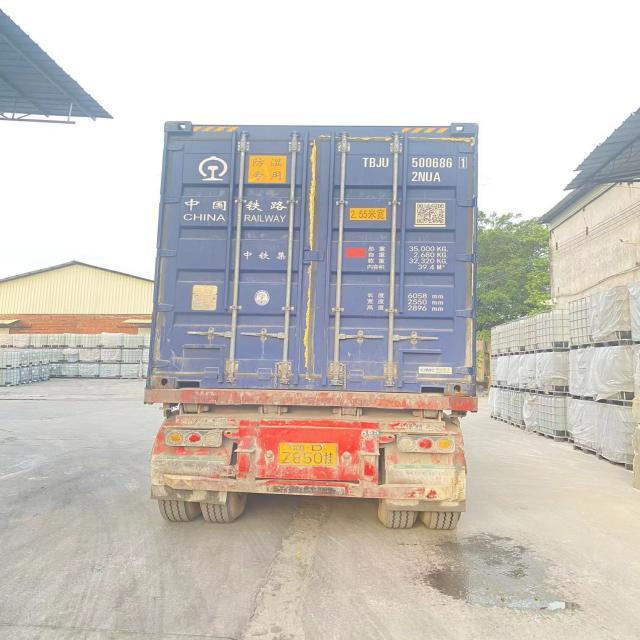ISO: (410, 169, 440, 185)
container_number: (362, 154, 471, 169)
